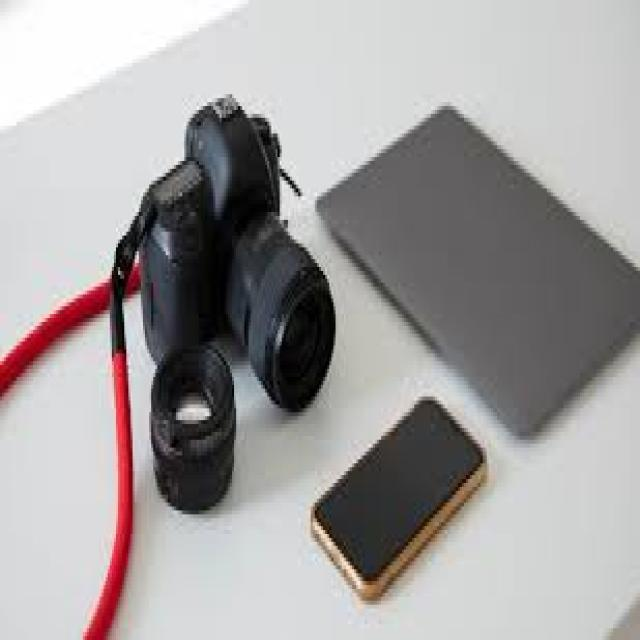camera: (140, 100, 336, 416)
